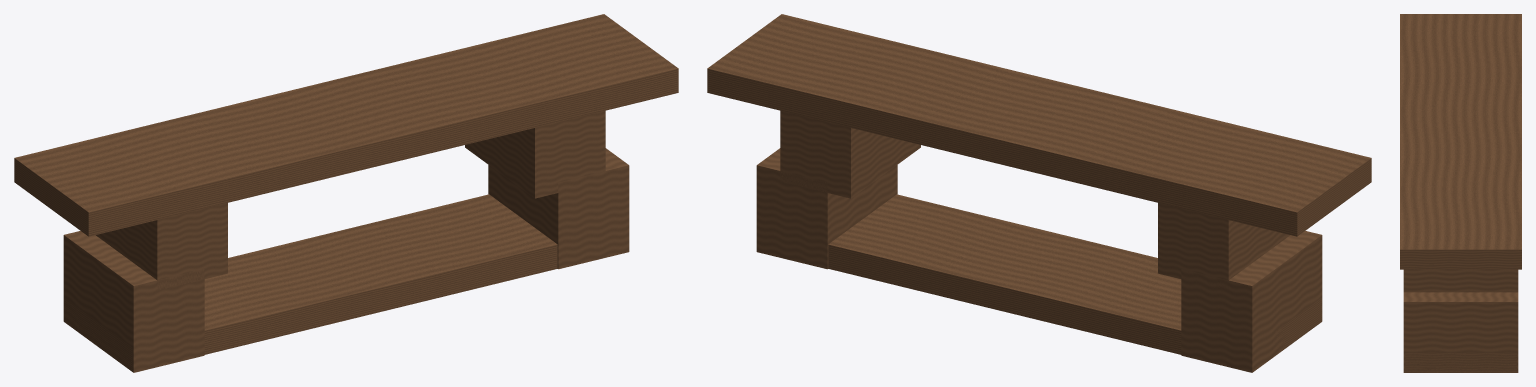
3 views of the same model, side by side, from view 1: azimuth 30°, elevation 25°; view 2: azimuth 150°, elevation 25°; view 3: azimuth 270°, elevation 25° (orthographic). The views are drawn at different scales.
Parts seen in each view (by area): view 1: 1 top_shelf, 2 bottom_shelf, 3 left_leg_lower, 5 right_leg_lower, 6 right_leg_upper, 4 left_leg_upper; view 2: 1 top_shelf, 2 bottom_shelf, 3 left_leg_lower, 5 right_leg_lower, 6 right_leg_upper, 4 left_leg_upper; view 3: 1 top_shelf, 5 right_leg_lower, 6 right_leg_upper, 2 bottom_shelf.
Part boxes in pixels (x1,y1,x2,y2): 1 top_shelf: [14, 14, 678, 236]; 2 bottom_shelf: [64, 194, 557, 371]; 3 left_leg_lower: [63, 231, 204, 372]; 5 right_leg_lower: [488, 148, 629, 269]; 6 right_leg_upper: [465, 110, 605, 198]; 4 left_leg_upper: [96, 203, 227, 289]; 1 top_shelf: [707, 14, 1371, 236]; 2 bottom_shelf: [828, 194, 1321, 354]; 3 left_leg_lower: [1181, 231, 1322, 372]; 5 right_leg_lower: [756, 148, 897, 269]; 6 right_leg_upper: [780, 110, 920, 198]; 4 left_leg_upper: [1158, 203, 1289, 289]; 1 top_shelf: [1400, 14, 1521, 269]; 5 right_leg_lower: [1403, 292, 1518, 372]; 6 right_leg_upper: [1403, 269, 1518, 292]; 2 bottom_shelf: [1405, 353, 1516, 372].
Size of the model in its own units: 1.6 by 0.4501 by 0.35.
1 material, 1 textured.
